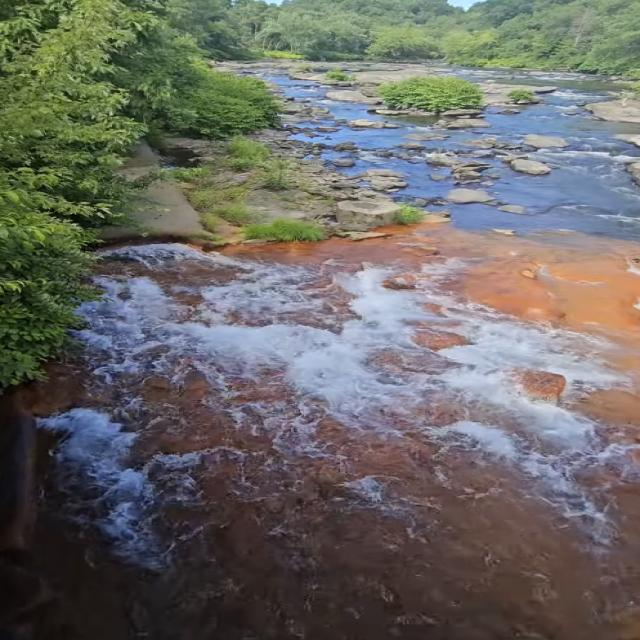yellow_boy: (37, 225, 639, 639)
